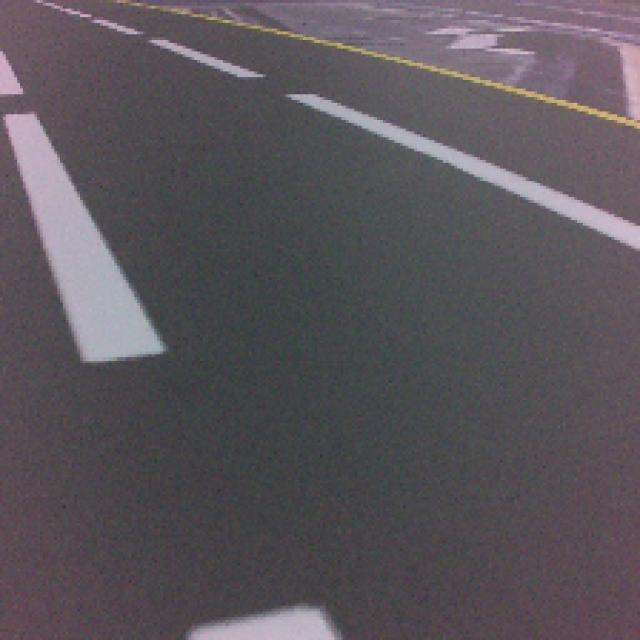Road: (243, 302, 640, 635)
